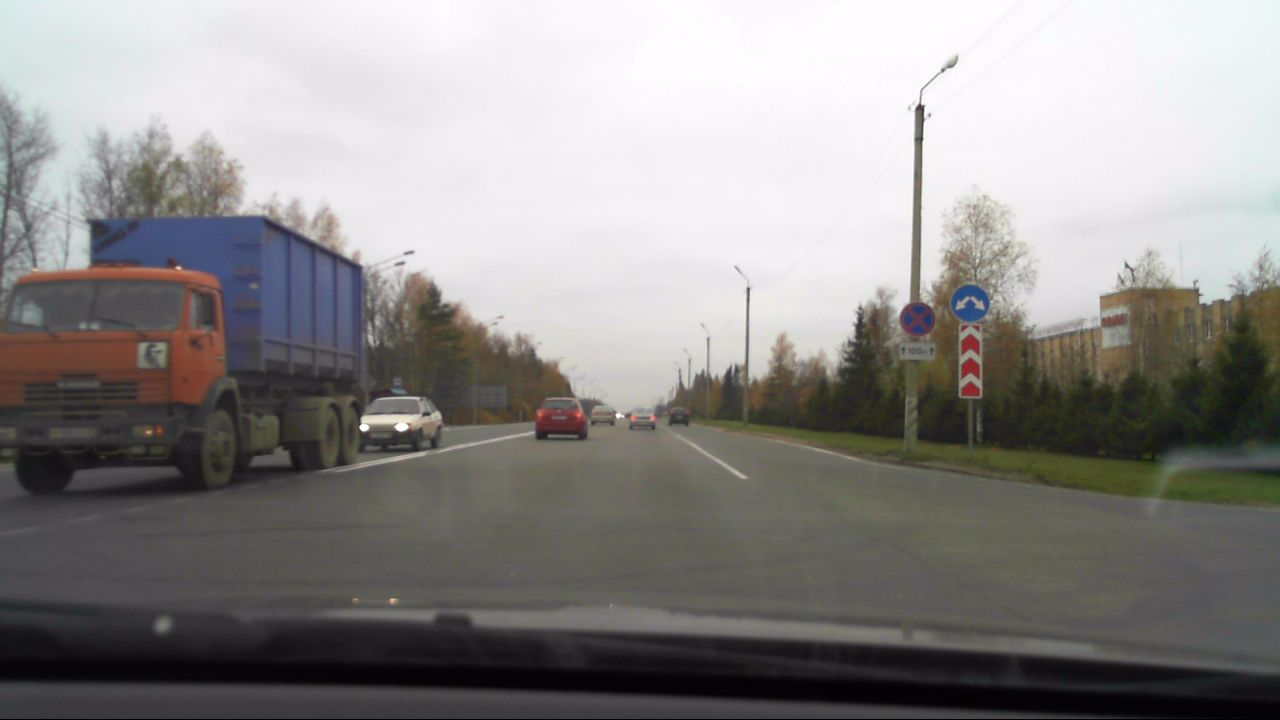No Parking: (898, 301, 935, 336)
